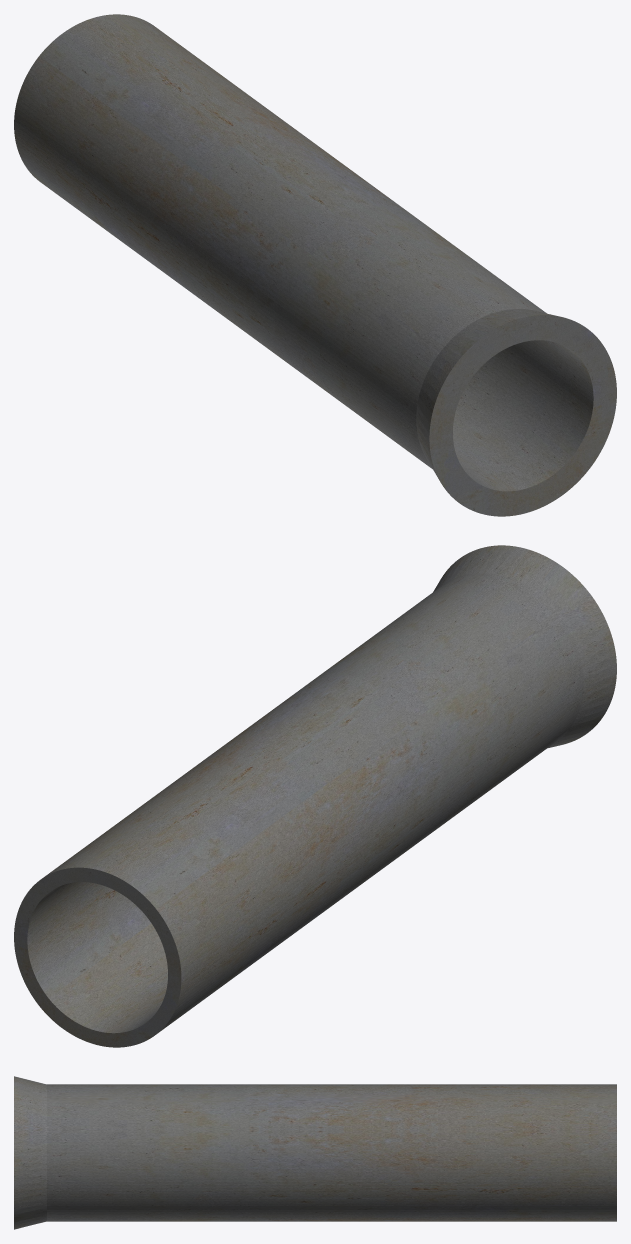
File: gas_lift_sleeve.glb
3 renders of one model, top to bottom at view 1: azimuth 30°, elevation 25°; view 2: azimuth 150°, elevation 25°; view 3: azimuth 270°, elevation 25°, orthographic. The views are drawn at different scales.
Visible parts, largest first — view 1: world; view 2: world; view 3: world.
Part boxes in pixels (x1=…): world: x1=14, y1=14, x2=616, y2=516; world: x1=14, y1=545, x2=616, y2=1047; world: x1=14, y1=1076, x2=616, y2=1229.
Bounding box in the file's own units: 56 × 55.98 × 220.
1 material, 1 textured.
